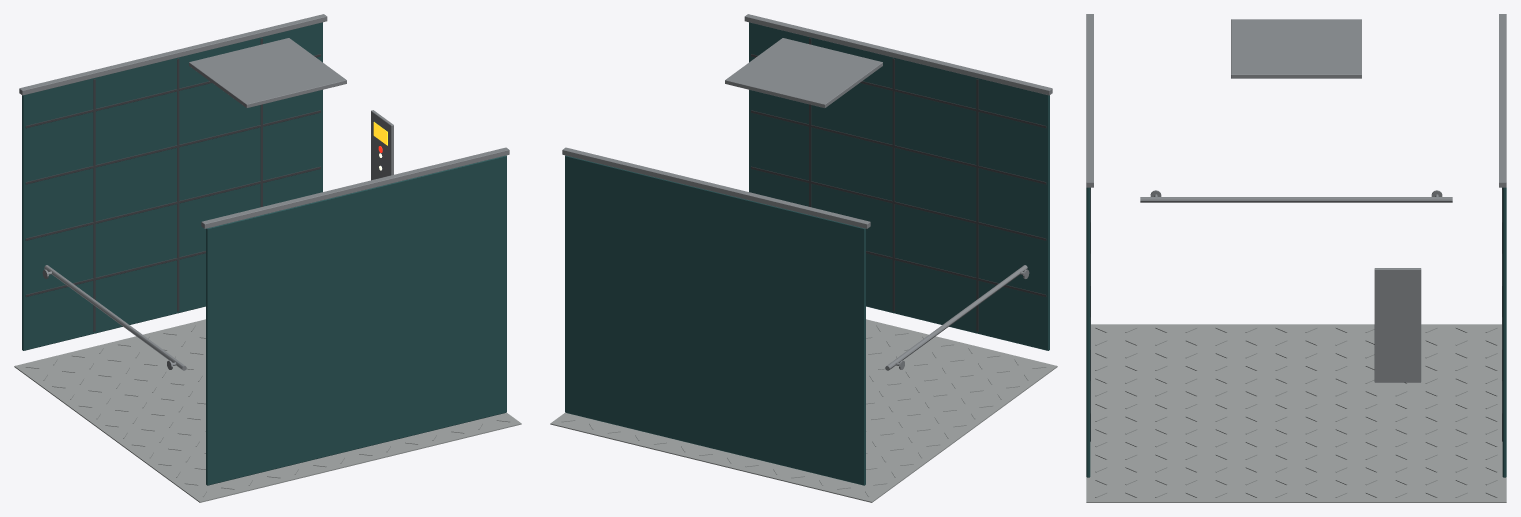
The model's file is prop_escape_lift_fitout.glb.
The picture shows the model from 3 angles, left to right: view 1: azimuth 30°, elevation 25°; view 2: azimuth 150°, elevation 25°; view 3: azimuth 270°, elevation 25°; orthographic projection. The views are drawn at different scales.
Visible parts, largest first — view 1: Fitout; view 2: Fitout; view 3: Fitout.
Part boxes in pixels (<box>): Fitout: <box>14,14,521,502</box>; Fitout: <box>550,14,1057,502</box>; Fitout: <box>1086,14,1506,502</box>.
Bounding box in the file's own units: 2.69 × 2.6 × 2.69.
